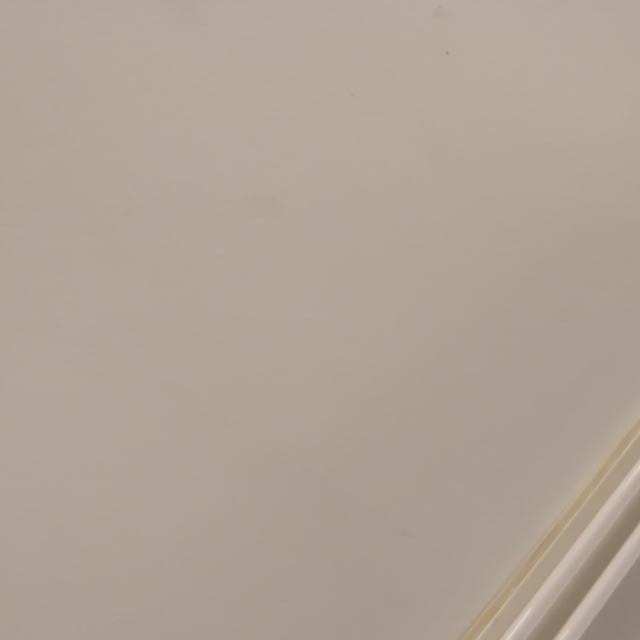fluorescent tube: (127, 219, 640, 640)
